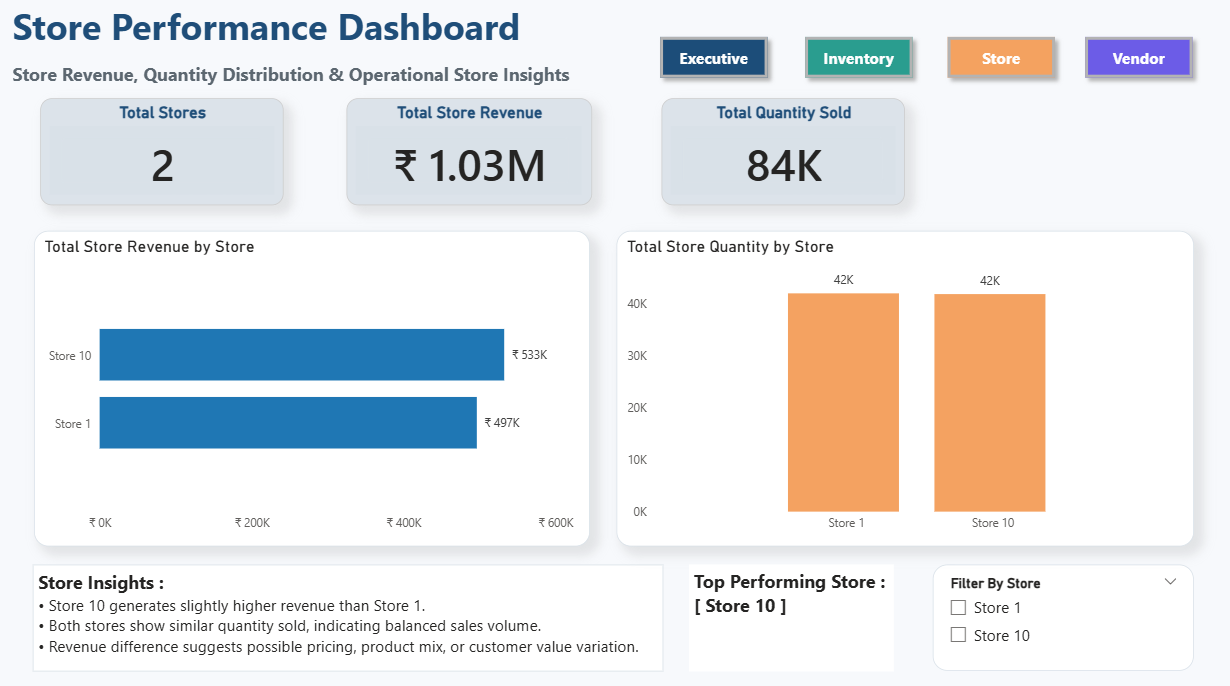

What the dashboard file says about the page in this screenshot:
{"tool":"powerbi","page":{"name":"Store Performance","canvas":[1280,720],"ordinal":2},"visuals":[{"type":"textbox","box":[9,0,574.5,60.6],"z":0},{"type":"textbox","box":[9.6,61.7,602.4,35.7],"z":1000},{"type":"cardVisual","title":"Total Stores","fields":{"Data":["Count(store_summary.Store)"]},"box":[43.3,105.7,253.1,110.9],"z":2000},{"type":"cardVisual","title":"Total Store Revenue","fields":{"Data":["Sum(store_summary.Total_Store_Revenue)"]},"box":[360.6,105.7,254.8,110.9],"z":3000},{"type":"cardVisual","title":"Total Quantity Sold","fields":{"Data":["Sum(store_summary.Total_Store_Quantity)"]},"box":[688.2,105.7,253.1,110.9],"z":4000},{"type":"barChart","title":"Total Store Revenue by Store","fields":{"Y":["Sum(store_summary.Total_Store_Revenue)"],"Category":["store_summary.Store_Name"]},"box":[36.4,242.7,577.3,327.6],"z":5000},{"type":"textbox","box":[34.7,589.4,655.3,110.9],"z":6000},{"type":"slicer","fields":{"Values":["store_summary.Store_Name"]},"box":[969.7,589.4,271.5,110],"z":7000},{"type":"columnChart","title":"Total Store Quantity by Store","fields":{"Y":["Sum(store_summary.Total_Store_Quantity)"],"Category":["store_summary.Store_Name"]},"box":[641.4,242.7,599.8,327.6],"z":8000},{"type":"textbox","box":[716.6,589.4,212.8,111.3],"z":9000},{"type":"actionButton","box":[678.2,32.1,129.5,60.3],"z":10000},{"type":"actionButton","box":[828.2,32.1,129.5,60.3],"z":11000},{"type":"actionButton","box":[1119.2,32.1,129.5,60.3],"z":12000},{"type":"actionButton","box":[976.9,32.1,129.5,60.3],"z":13000}]}

Visuals, with their boxes in screenshot pixels (x1, y1, x2, y2), scaled from the page's 1280x720 canvas onto the 1230x686 screenshot:
textbox: (9,0,561,58)
textbox: (9,59,588,93)
"Total Stores" cardVisual: (42,101,285,206)
"Total Store Revenue" cardVisual: (347,101,591,206)
"Total Quantity Sold" cardVisual: (661,101,905,206)
"Total Store Revenue by Store" barChart: (35,231,590,543)
textbox: (33,562,663,667)
slicer - store_summary.Store_Name: (932,562,1193,666)
"Total Store Quantity by Store" columnChart: (616,231,1193,543)
textbox: (689,562,893,668)
actionButton: (652,31,776,88)
actionButton: (796,31,920,88)
actionButton: (1075,31,1200,88)
actionButton: (939,31,1063,88)
